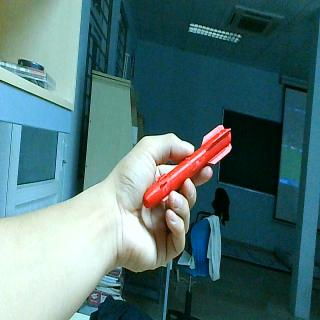Rocket: (142, 124, 233, 209)
